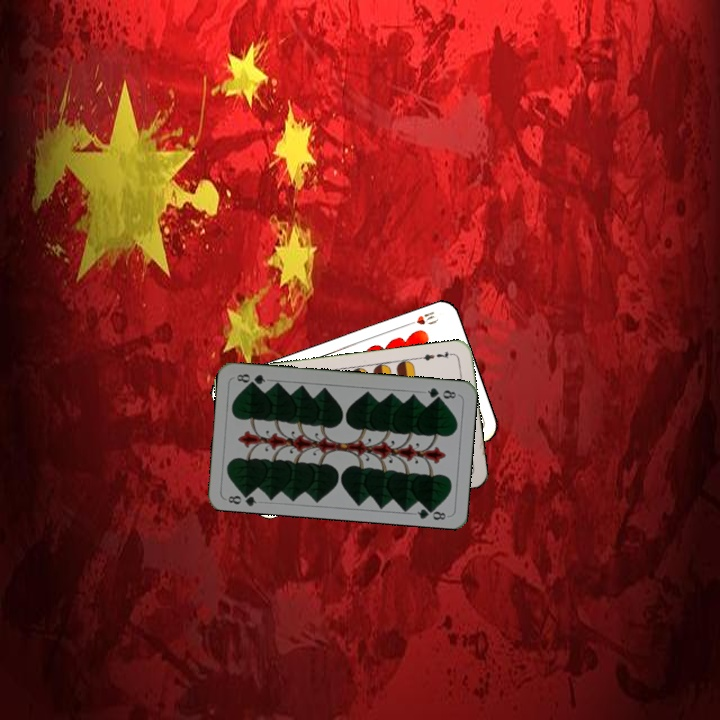E7: (415, 347, 456, 363)
G8: (224, 487, 259, 508), (423, 383, 459, 402)
H10: (402, 307, 441, 329)
